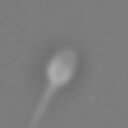normal: (23, 82, 55, 128)
